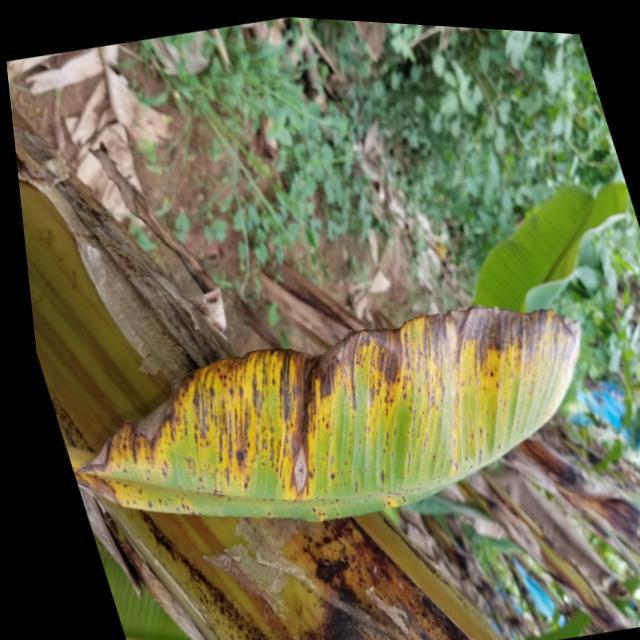Early_rust: (70, 253, 608, 554)
